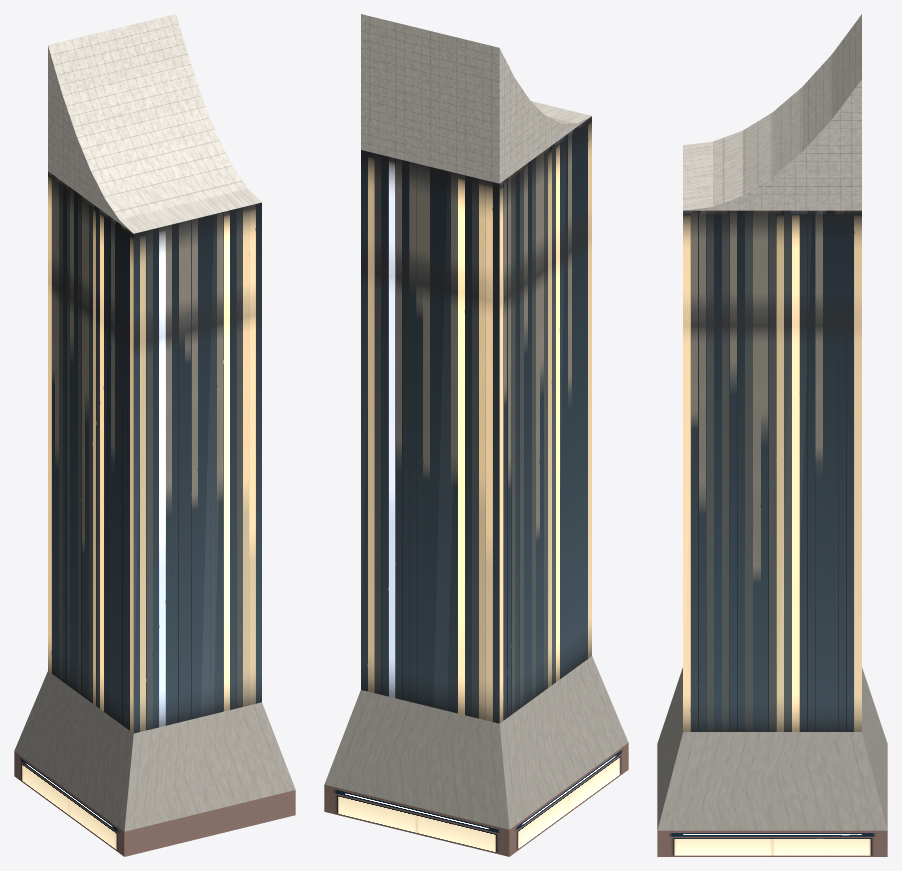
File: CO_EdificioColtejer_6x6_LOD2.fbx
3 renders of one model, left to right at view 1: azimuth 30°, elevation 25°; view 2: azimuth 150°, elevation 25°; view 3: azimuth 270°, elevation 25°, orthographic. The views are drawn at different scales.
Visible parts, largest first — view 1: CO_EdificioColtejer_6x6_LOD2; view 2: CO_EdificioColtejer_6x6_LOD2; view 3: CO_EdificioColtejer_6x6_LOD2.
Boxes of the visible parts, left/top/right/bottom form: CO_EdificioColtejer_6x6_LOD2: left=14, top=14, right=295, bottom=856; CO_EdificioColtejer_6x6_LOD2: left=324, top=14, right=628, bottom=856; CO_EdificioColtejer_6x6_LOD2: left=657, top=14, right=887, bottom=856.
Bounding box in the file's own units: 42.7 × 175 × 47.6.
1 material, 1 textured.
